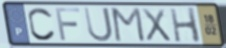C: (26, 6, 57, 43)
F: (53, 7, 82, 42)
H: (168, 6, 203, 44)
M: (111, 6, 148, 44)
U: (82, 6, 115, 43)
X: (140, 7, 173, 43)
